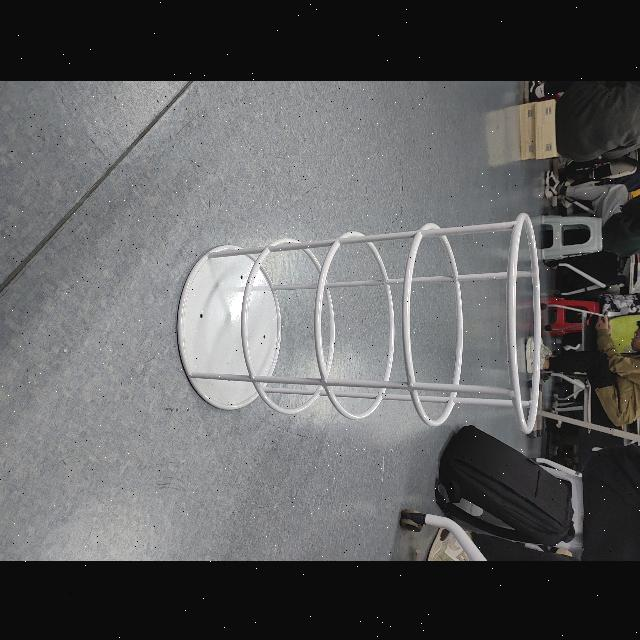S: (170, 207, 556, 443)
